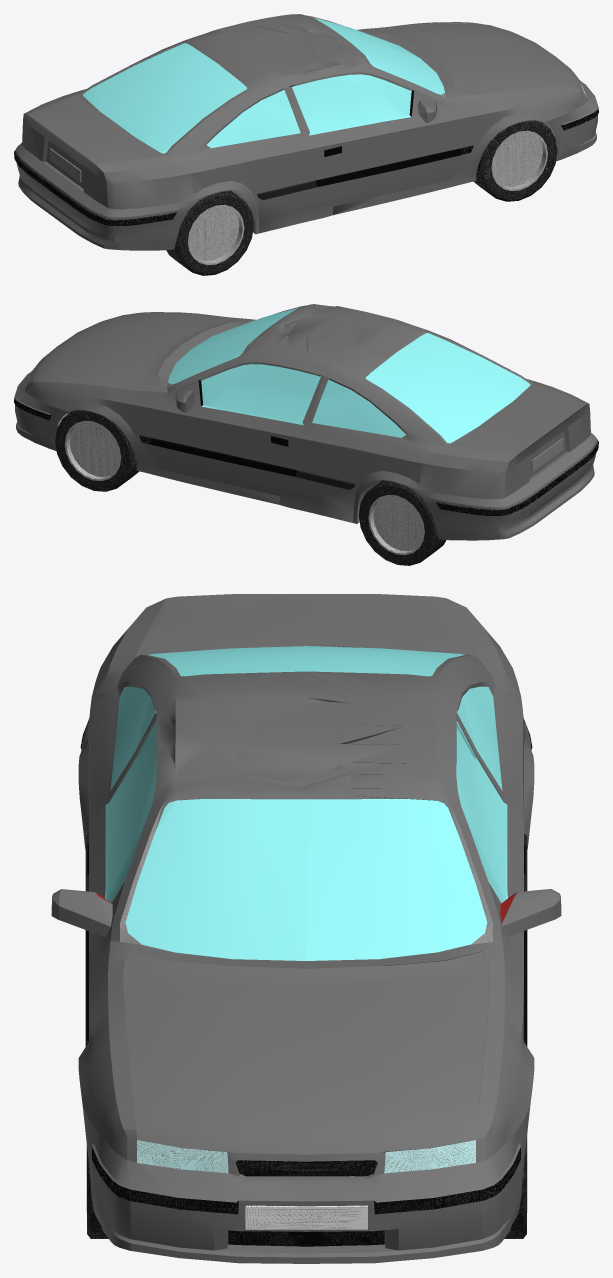
Rendered from DamagedCarB.dae.
3 views of the same model, one above another, from view 1: azimuth 30°, elevation 25°; view 2: azimuth 150°, elevation 25°; view 3: azimuth 270°, elevation 25° (orthographic). The views are drawn at different scales.
Parts seen in each view (by area): view 1: car_2_2 (×9), skpB179 (×4), door_BL_4 (×3); view 2: car_2_2 (×9), skp141D (×5), door_BL_4 (×3); view 3: car_2_2 (×10), door_BL_4 (×4), skpB179 (×3), skp141D (×3).
Boxes of the visible parts, x1,y1,x2,y2 form: car_2_2 (×9): (14, 14, 598, 275); skpB179 (×4): (291, 74, 461, 206); door_BL_4 (×3): (198, 86, 333, 233); car_2_2 (×9): (14, 304, 598, 565); skp141D (×5): (151, 364, 320, 496); door_BL_4 (×3): (279, 376, 414, 522); car_2_2 (×10): (78, 594, 534, 1263); door_BL_4 (×4): (89, 686, 523, 821); skpB179 (×3): (51, 720, 156, 978); skp141D (×3): (456, 720, 561, 978).
Size of the model in its own units: 180 by 77.32 by 54.51.
